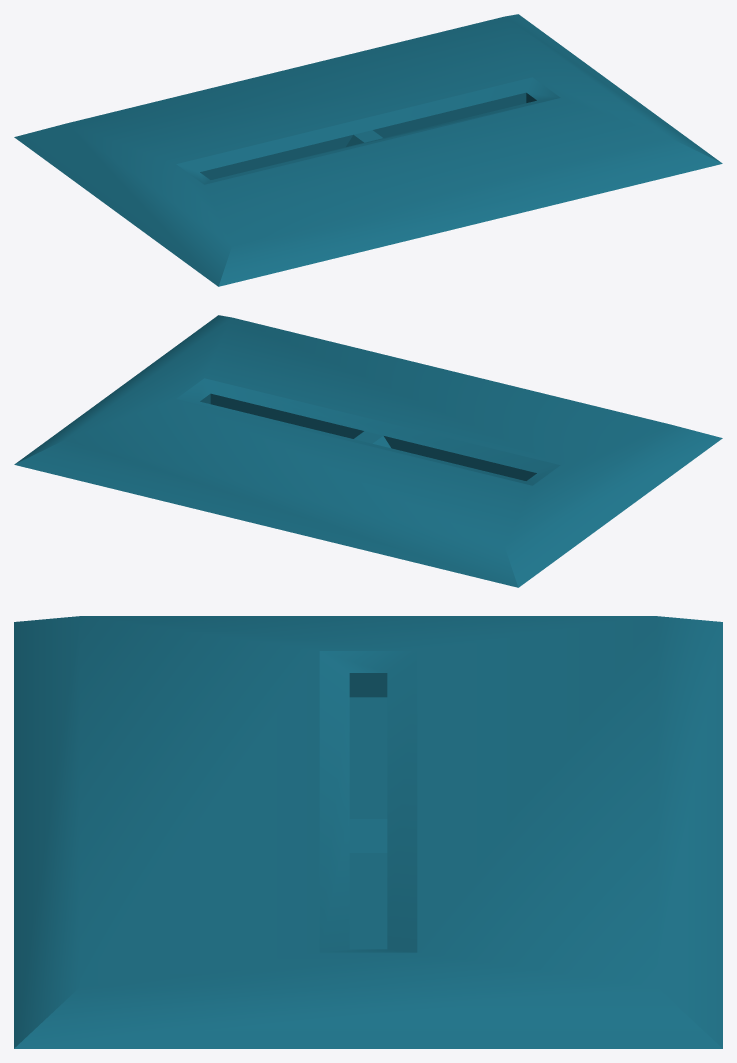
File: original-12.obj
3 views of the same model, one above another, from view 1: azimuth 30°, elevation 25°; view 2: azimuth 150°, elevation 25°; view 3: azimuth 270°, elevation 25° (orthographic). The views are drawn at different scales.
Parts seen in each view (by area): view 1: Group12/mesh23/mesh23-geometry#mesh23-geometry; view 2: Group12/mesh23/mesh23-geometry#mesh23-geometry; view 3: Group12/mesh23/mesh23-geometry#mesh23-geometry.
Part boxes in pixels (<box>): Group12/mesh23/mesh23-geometry#mesh23-geometry: <box>14,14,722,286</box>; Group12/mesh23/mesh23-geometry#mesh23-geometry: <box>14,315,722,587</box>; Group12/mesh23/mesh23-geometry#mesh23-geometry: <box>14,616,722,1048</box>.
Bounding box in the file's own units: 0.3502 × 0.0129 × 0.2459.
